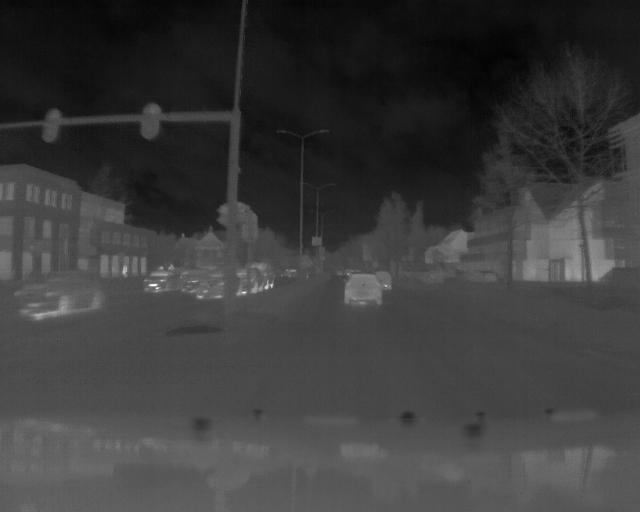car: (13, 267, 112, 324), (343, 271, 383, 311), (194, 271, 240, 304), (144, 269, 176, 293)
